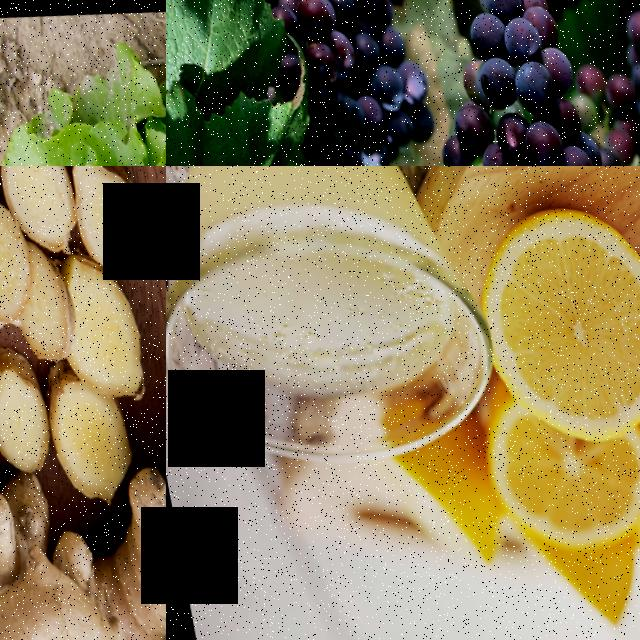ginger: (0, 451, 136, 640), (88, 416, 166, 640)
grapes: (374, 0, 640, 166), (274, 0, 440, 166)
lemon: (469, 192, 640, 436), (471, 408, 640, 554)
lettuce: (0, 34, 166, 166)
